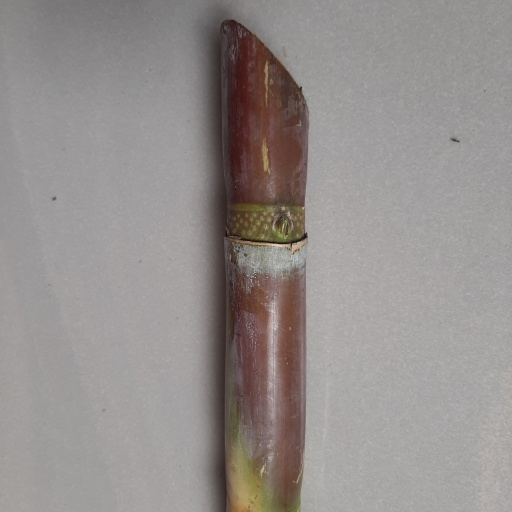Bud: (273, 211, 294, 238)
